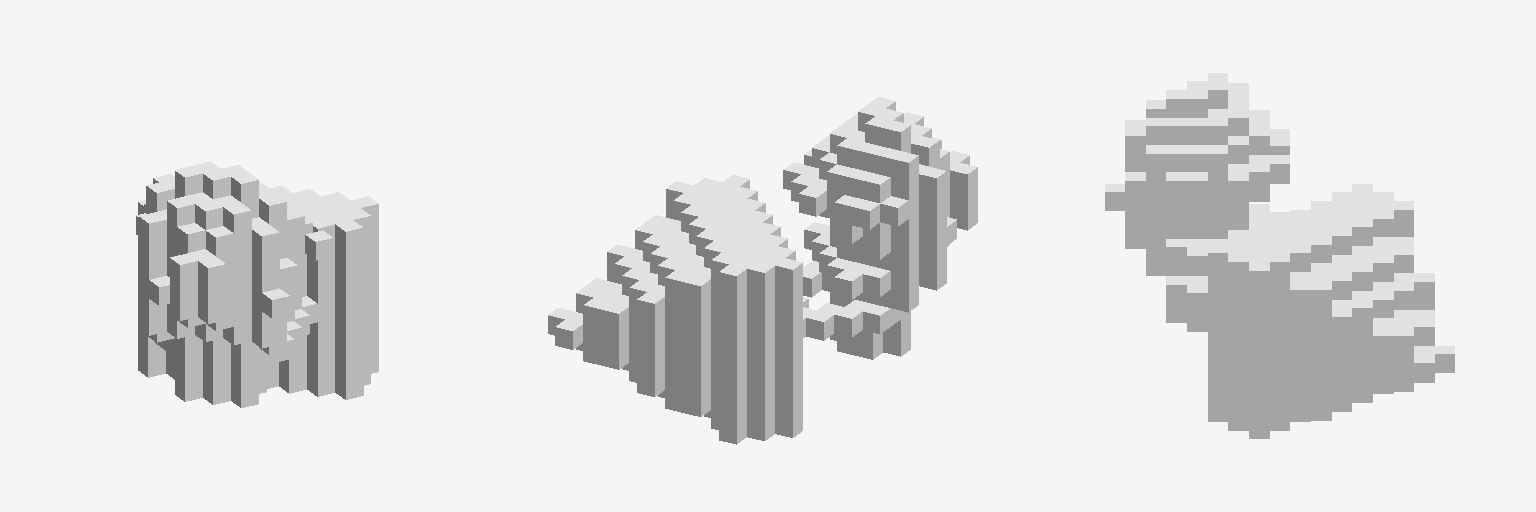
File: attacker8.obj
3 renders of one model, left to right at view 1: azimuth 30°, elevation 25°; view 2: azimuth 150°, elevation 25°; view 3: azimuth 270°, elevation 25°, orthographic.
Parts seen in each view (by area): view 1: object 1; view 2: object 1; view 3: object 1.
Boxes of the visible parts, <box> form: object 1: <box>136,162,378,407</box>; object 1: <box>548,97,977,444</box>; object 1: <box>1105,73,1454,438</box>.
Bounding box in the file's own units: 1.6 × 1.4 × 1.7.